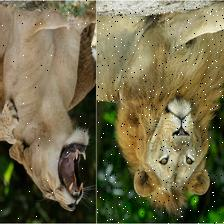Lion: (96, 6, 224, 224), (0, 0, 96, 224)
